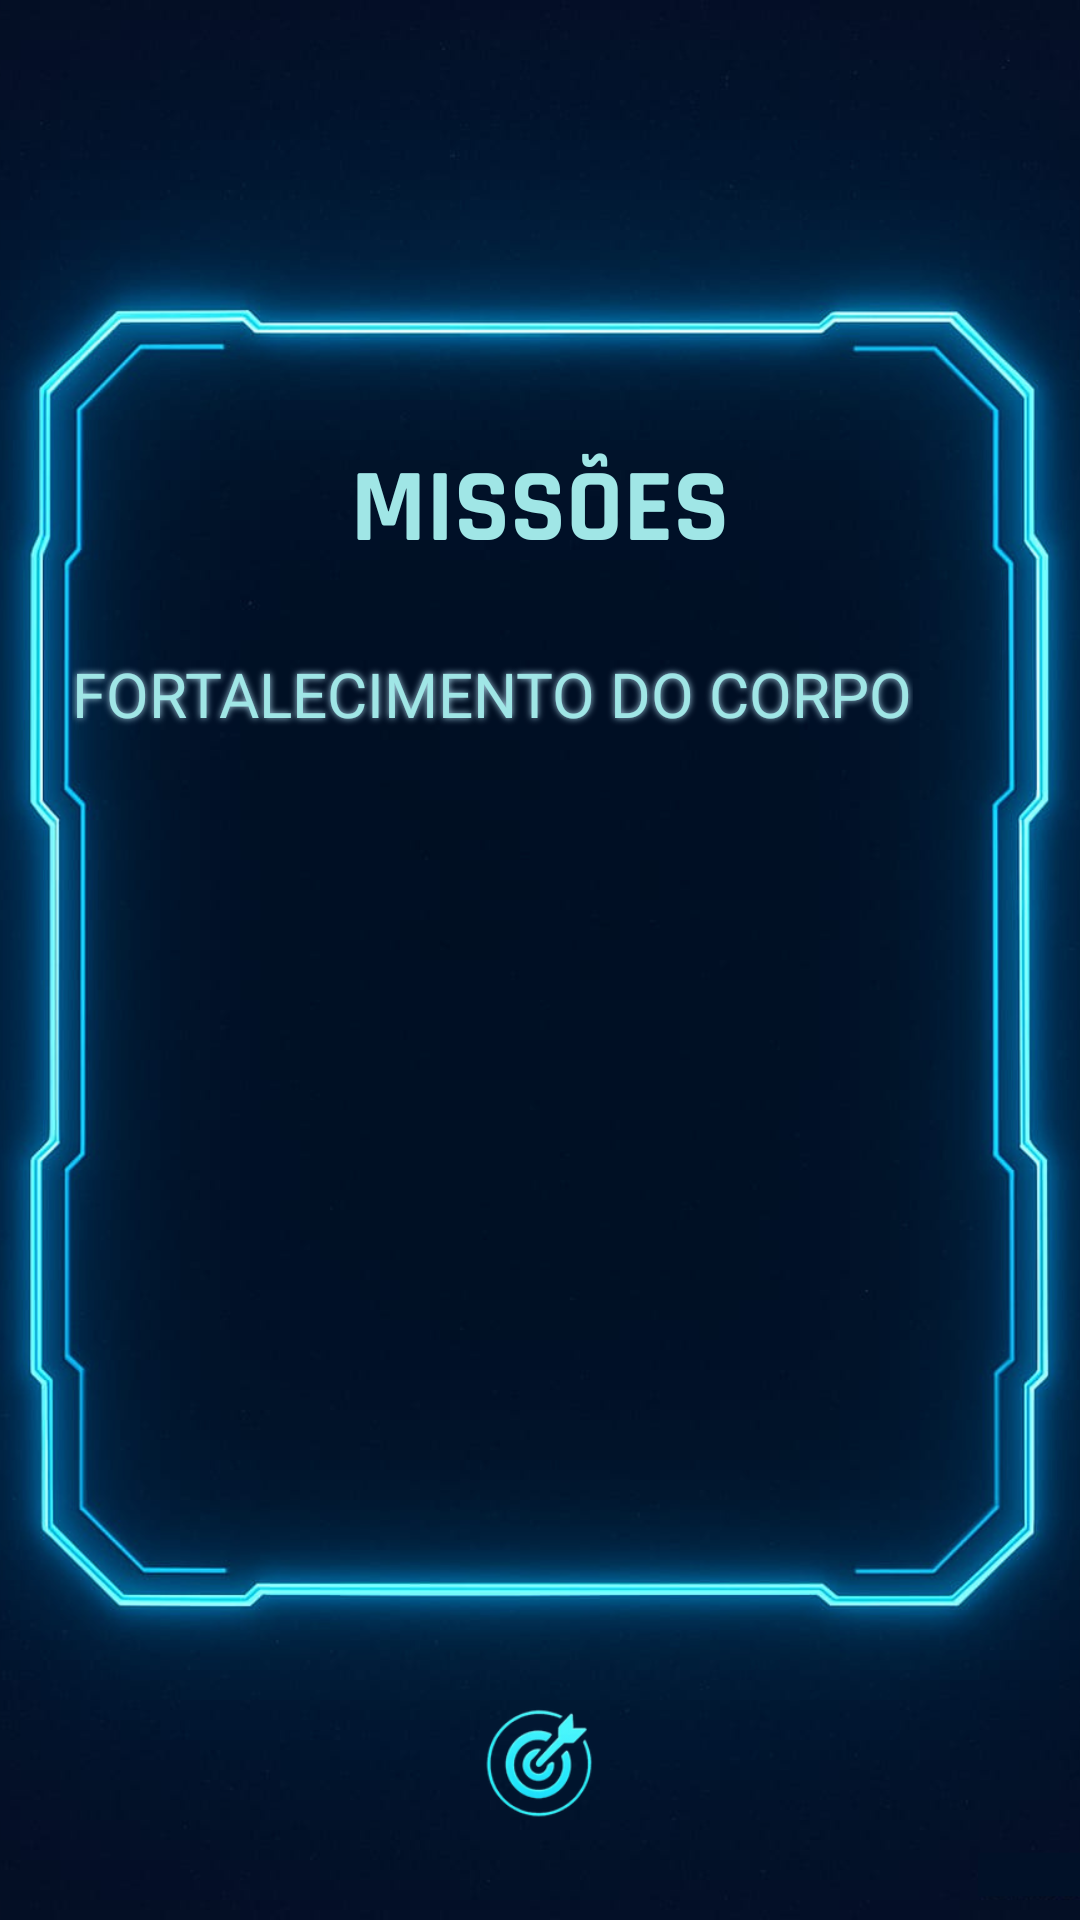

Locate icon controls on the screen. Image size 1080 x 1920, boxes as region(x1, y1, x2, y2).
missao: region(486, 1710, 592, 1817)
